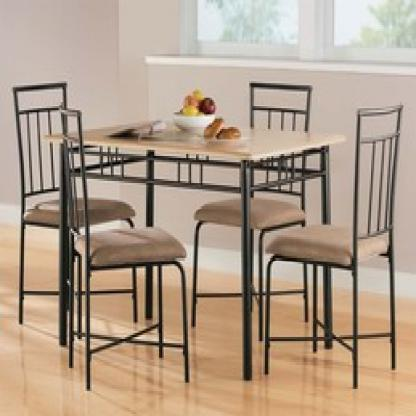chair: (259, 102, 404, 388), (52, 99, 189, 391), (192, 67, 315, 338), (9, 72, 131, 313)
table: (49, 97, 346, 360)
